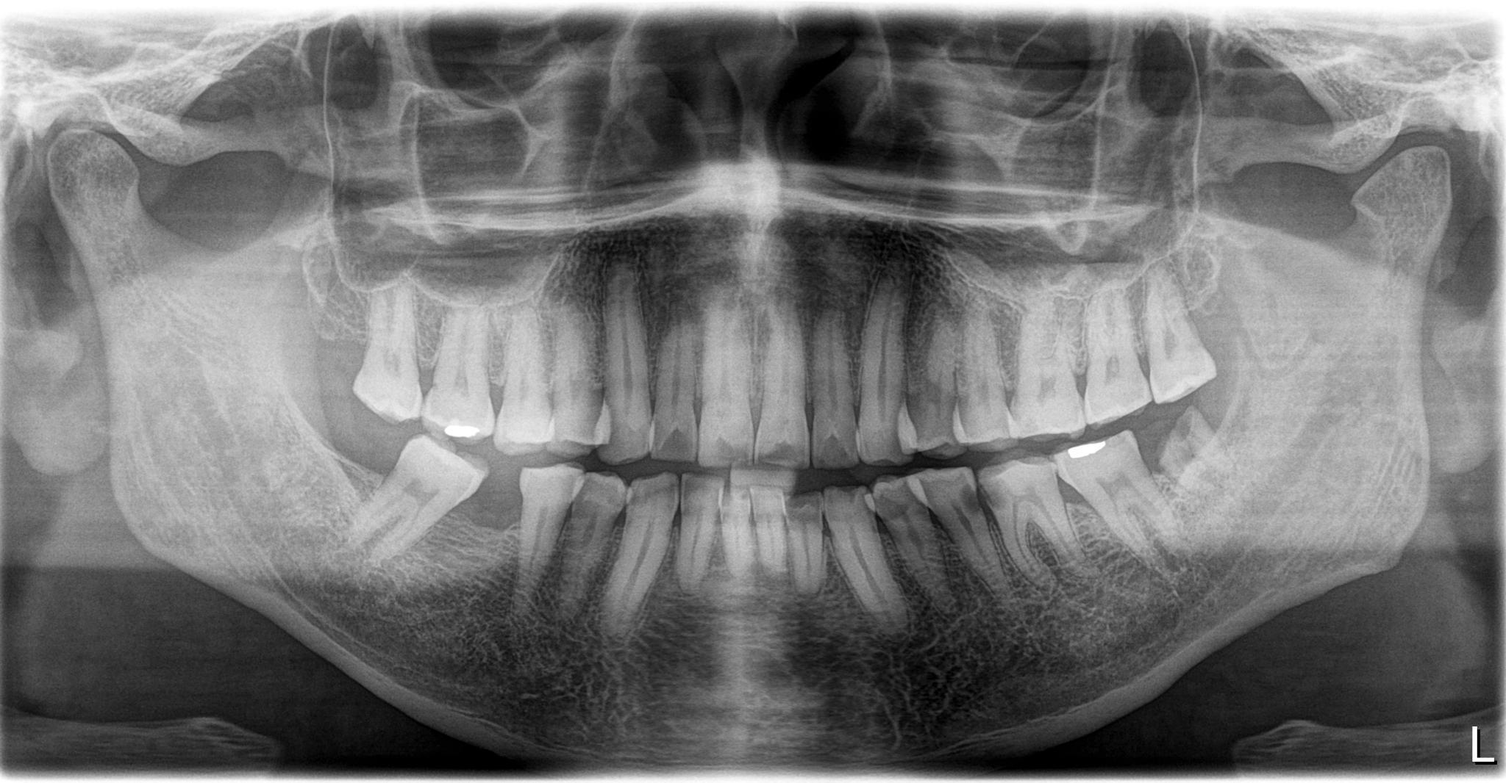Dental Caries: (954, 477, 1026, 538)
Missing Tooth: (336, 422, 395, 530), (478, 485, 526, 579)
Retained Root: (1147, 419, 1248, 504)
